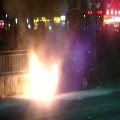fire: (21, 52, 58, 102)
